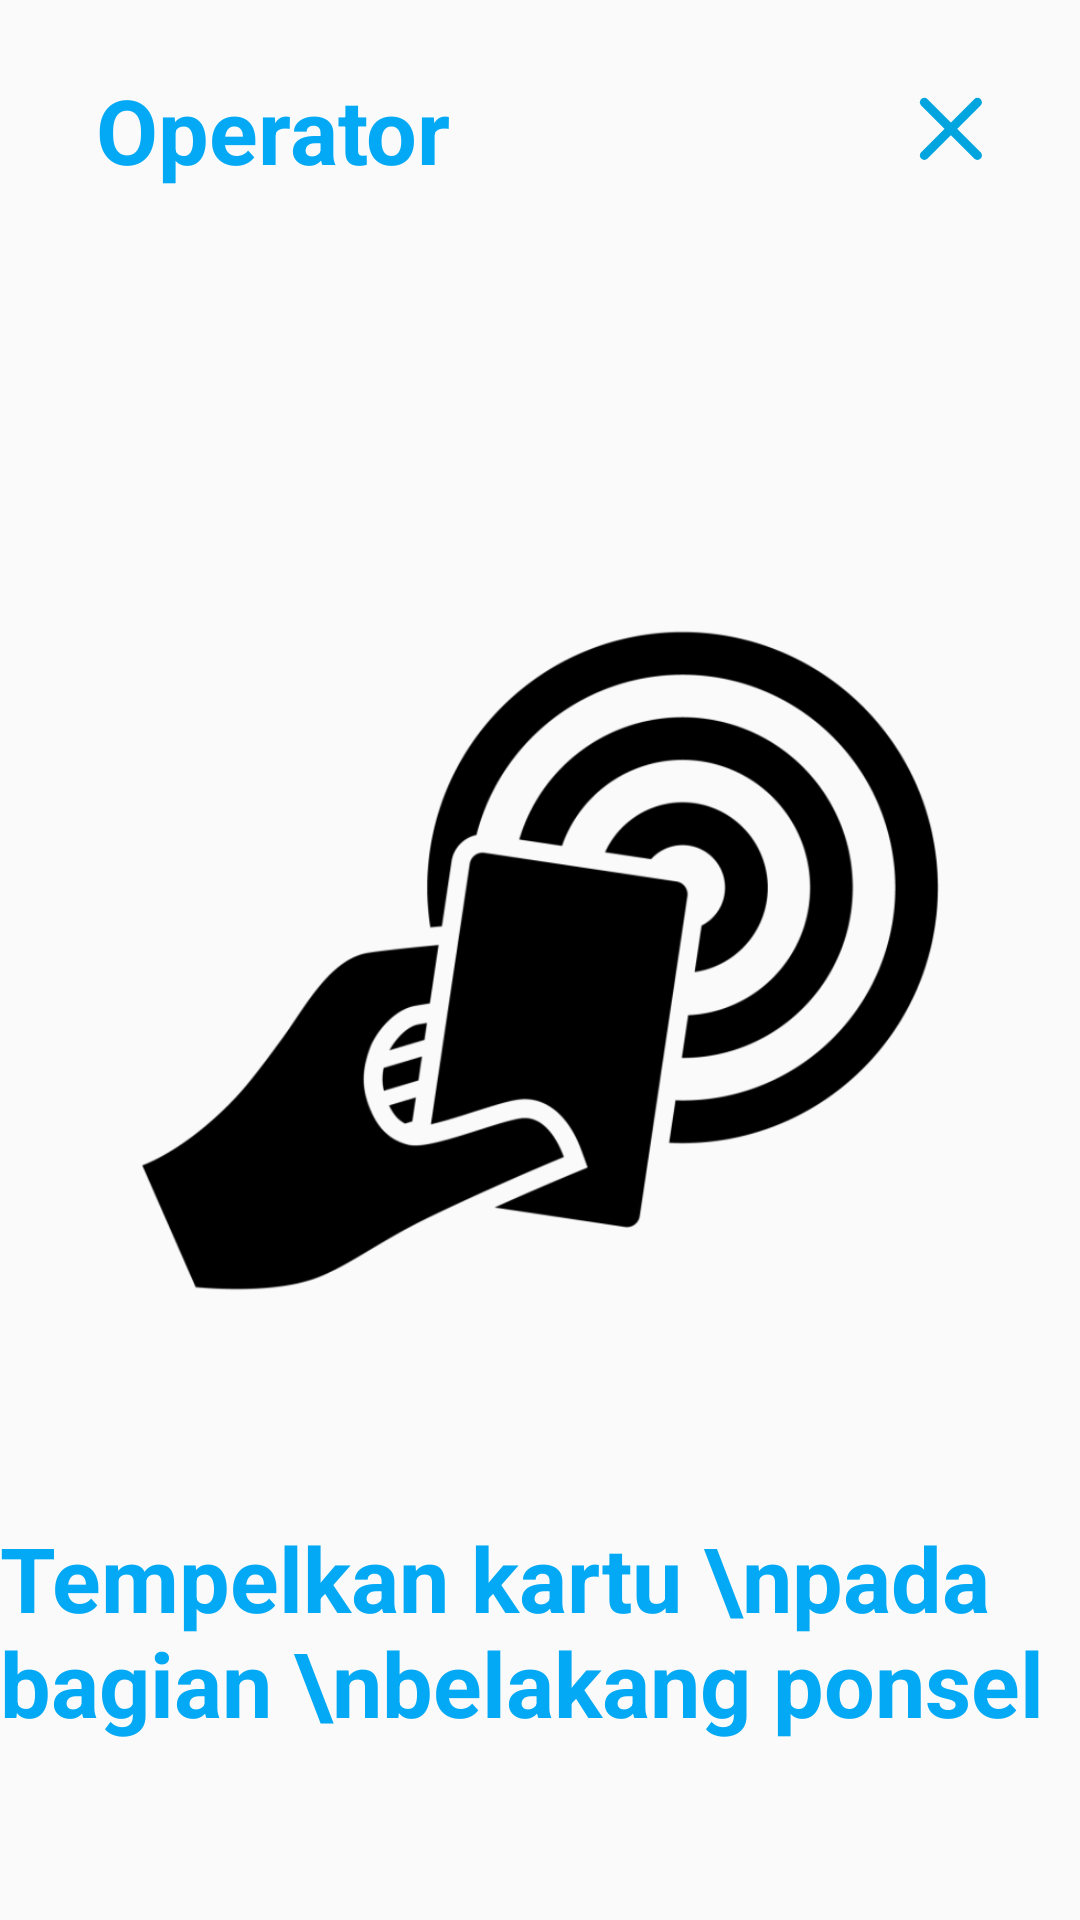

Screen size 1080 x 1920. Icon name, then its box in pixels as rect(x1, y1, x2, y2):
close: rect(919, 97, 982, 160)
